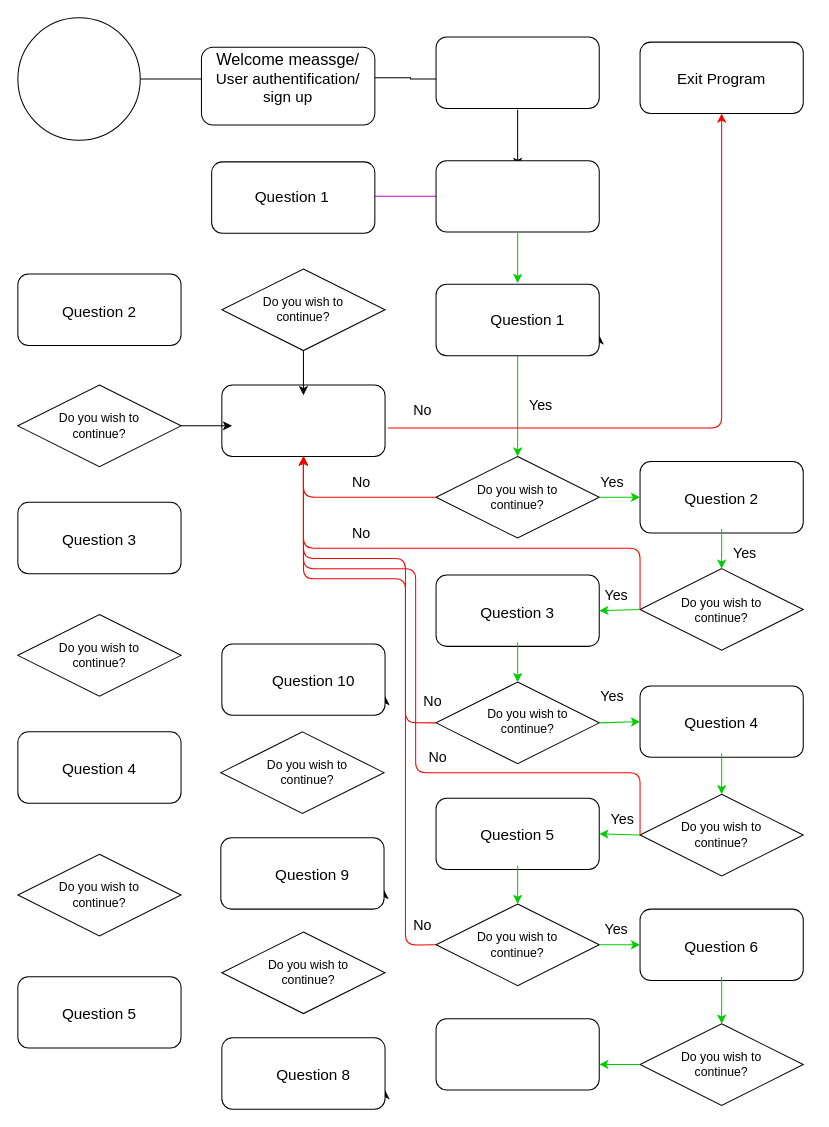
This 829x1127 diagram has some shape labels left out. The centre of each missing label's shape, as x and y in pixels:
Main display/ do you wish to continue?: point (303, 420)
Menu options 1. Quickie 2. Full survey: point (517, 196)
Personalised welcome greeting message: point (517, 72)
Question 7: point (517, 1054)
Start: point (78, 78)
